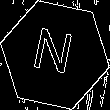N_S: (31, 26, 79, 84)
